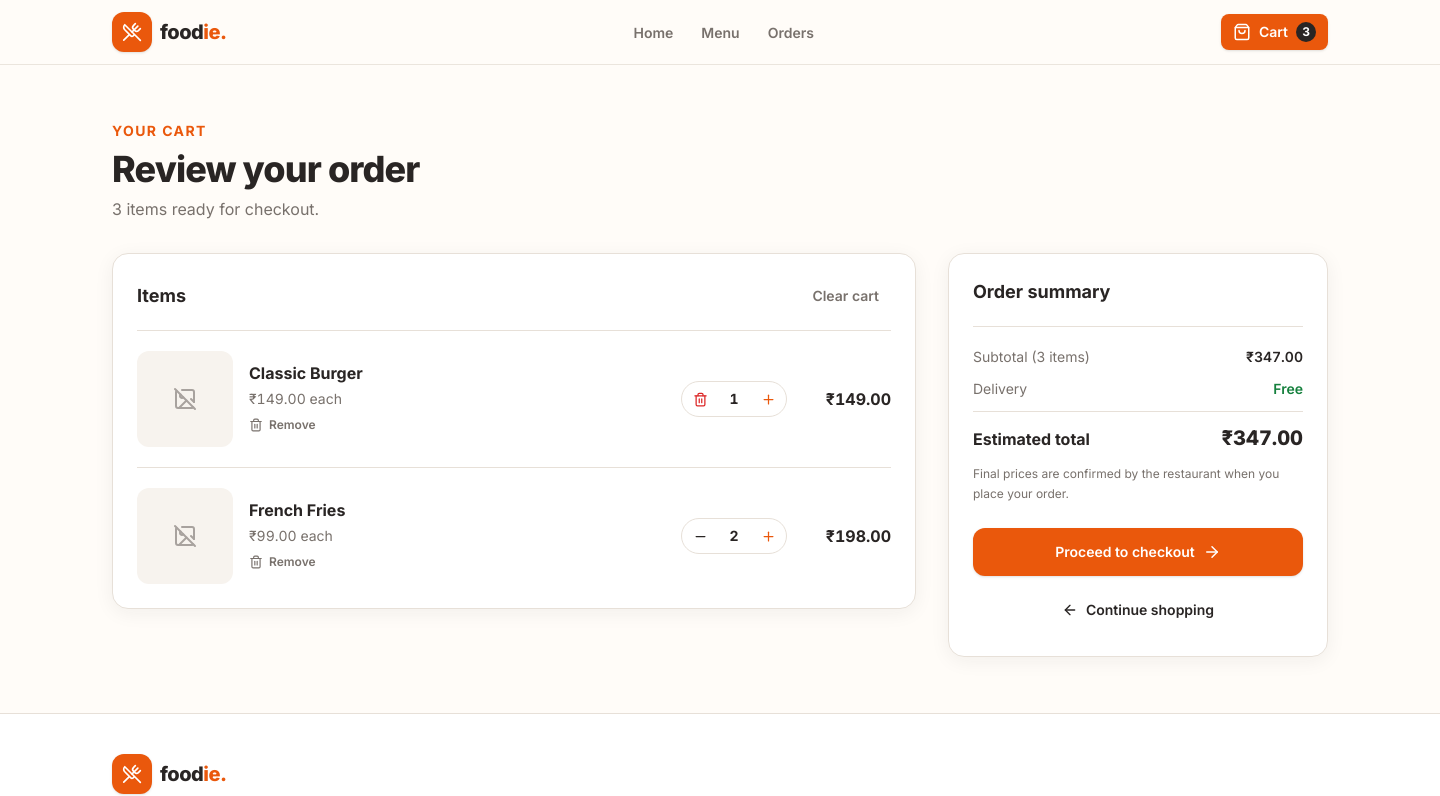
Test: Cart page › updates quantities and removes items
Step 1. Click the button named "Increase quantity of Classic Burger" → coordinates (768, 399), box x1=750 y1=381 x2=786 y2=417
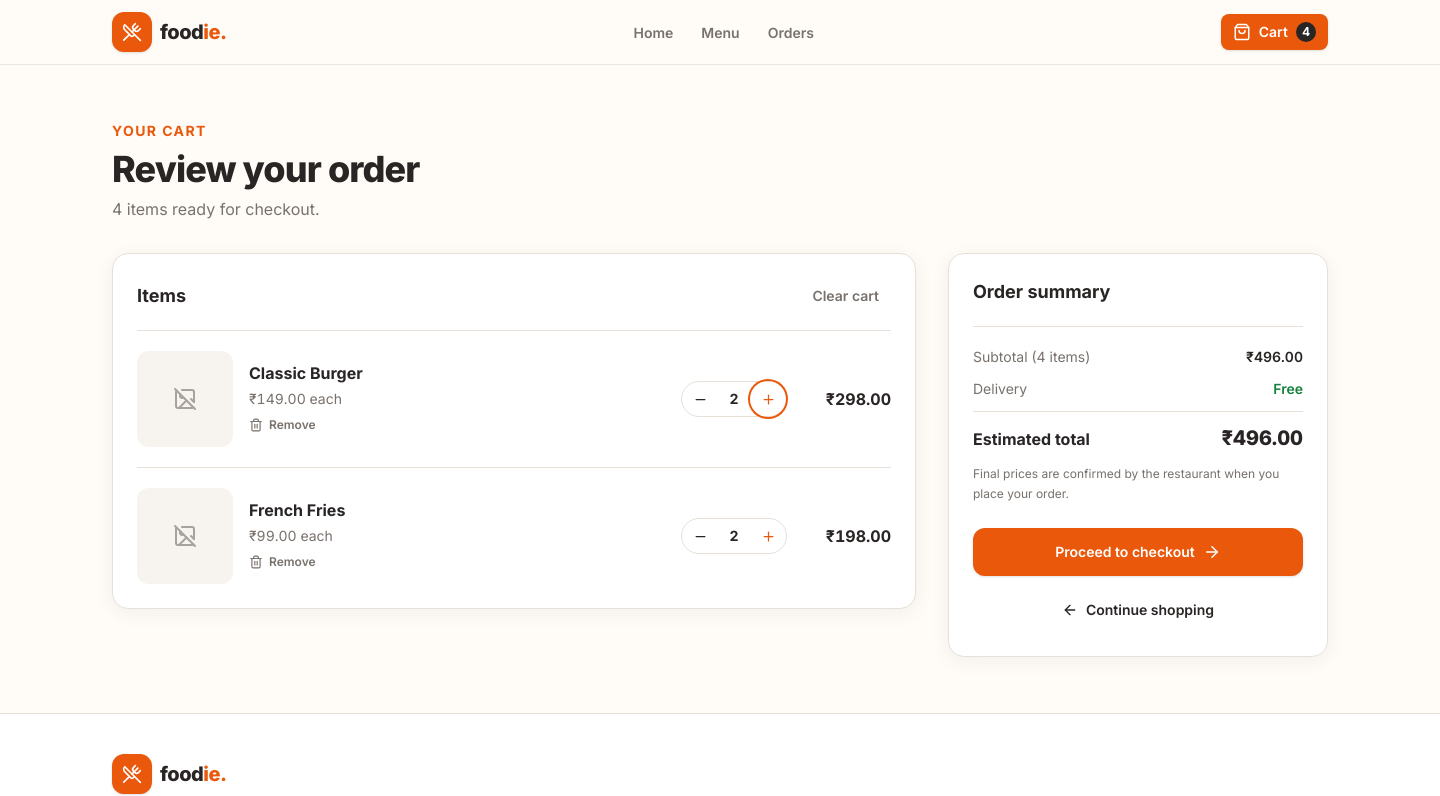
Step 2. Click the button named "Decrease quantity of French Fries" → coordinates (700, 536), box x1=682 y1=518 x2=718 y2=554
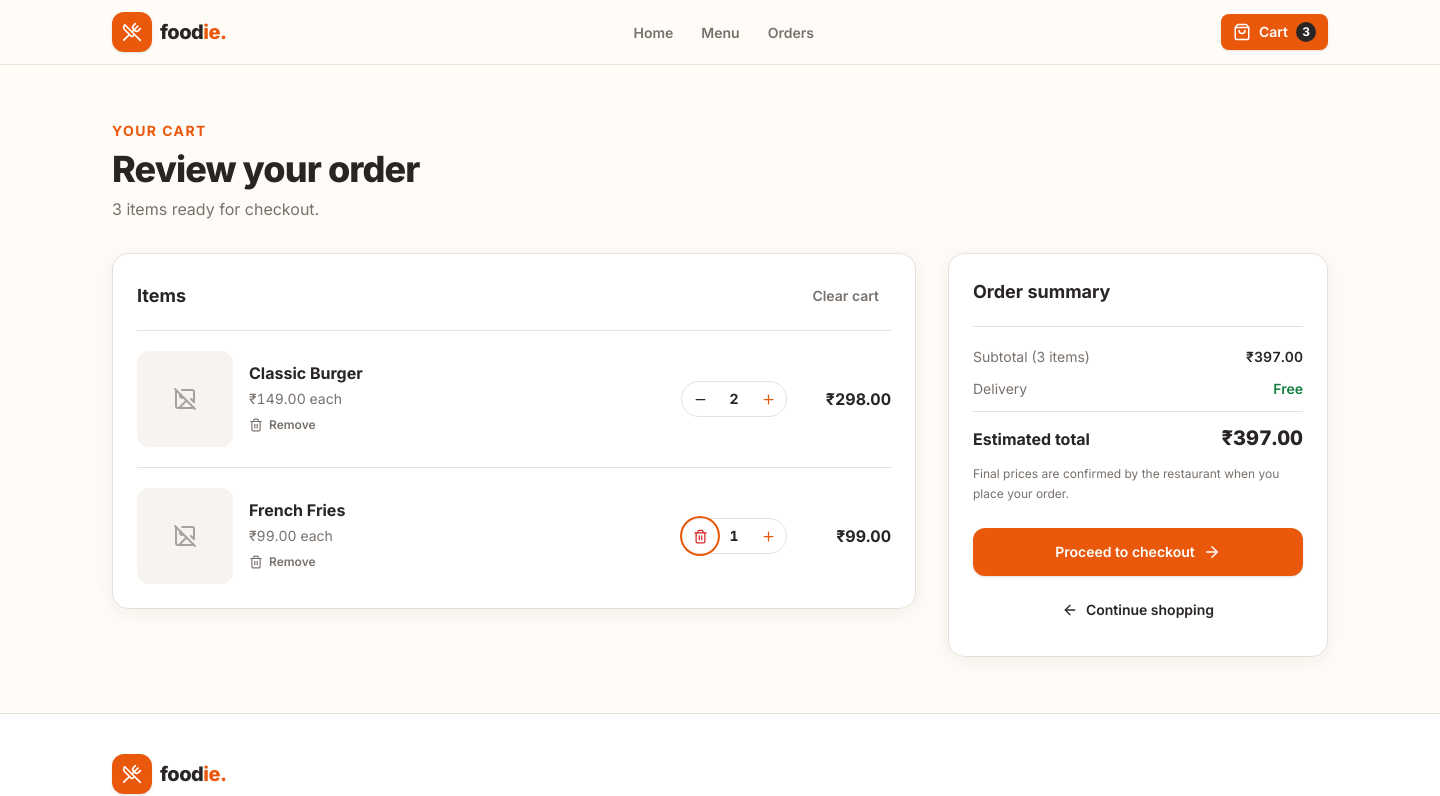
Step 3. Click the button with aria-label "Remove Classic Burger from cart" → coordinates (282, 424), box x1=249 y1=416 x2=316 y2=432
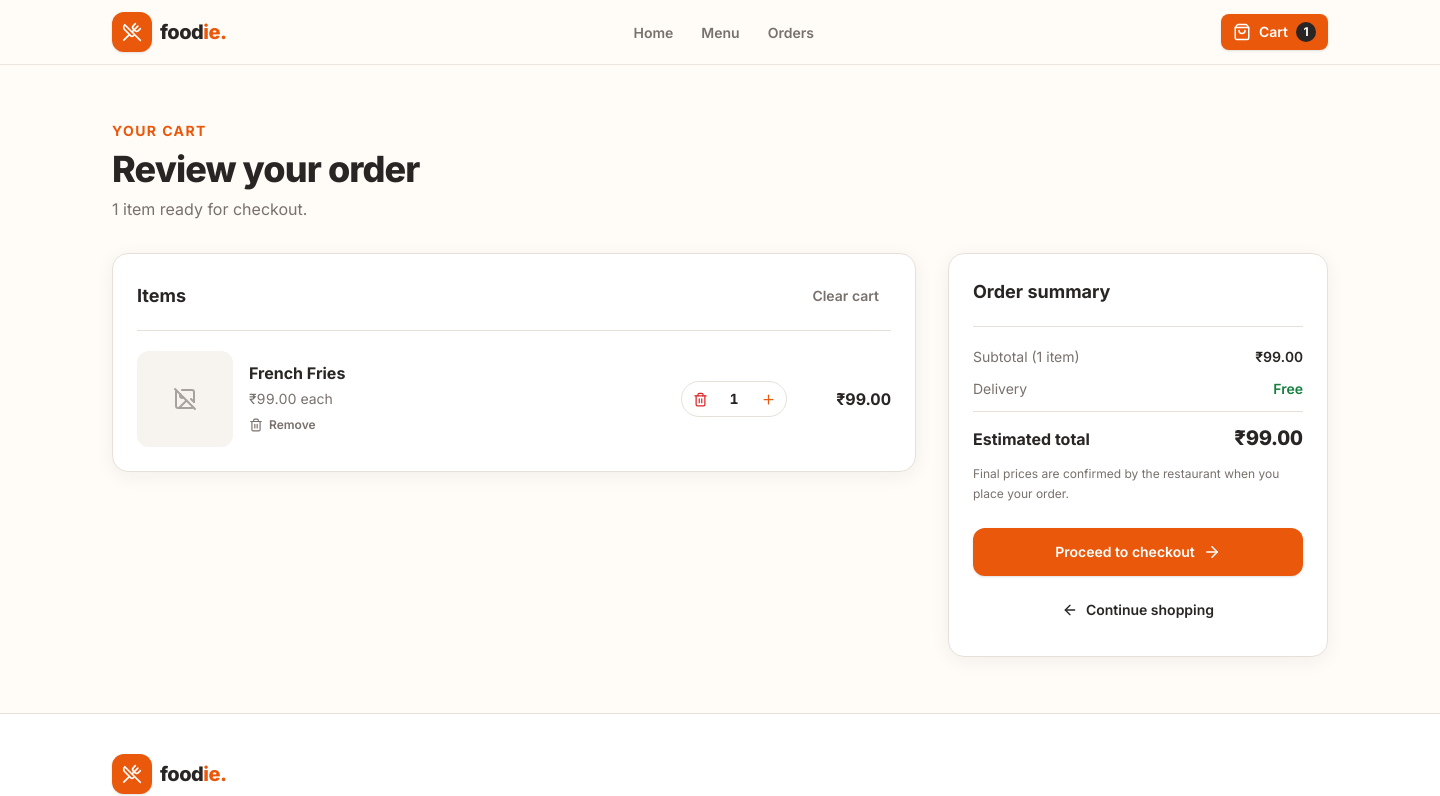
Result: the heading "Classic Burger" is gone
